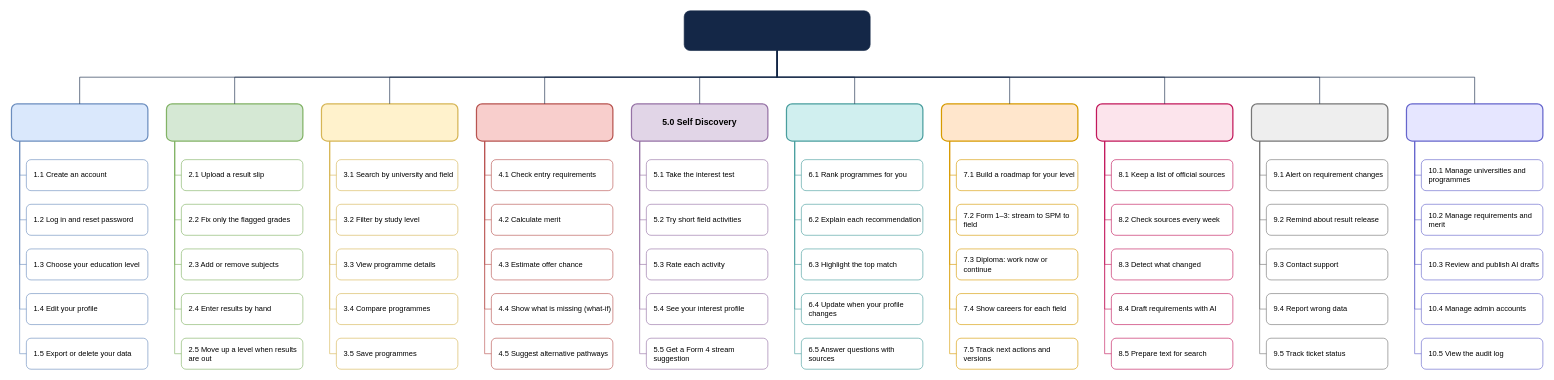
Some shapes in this 1554 by 380 pixel diagram are drawn without their labels. The shapes that lost their labels are listed below. From the top down, each one's centre as x and y in pixels, then its label:
the point at 777,30: EduLaunch Platform
the point at 79,122: 1.0 Identity & Access
the point at 234,122: 2.0 Academic Profile
the point at 389,122: 3.0 Programme Catalogue
the point at 544,122: 4.0 Eligibility & Prediction
the point at 854,122: 6.0 Recommendation & AI
the point at 1009,122: 7.0 Study & Career Planning
the point at 1164,122: 8.0 Content Pipeline
the point at 1319,122: 9.0 Notifications & Support
the point at 1474,122: 10.0 Administration
